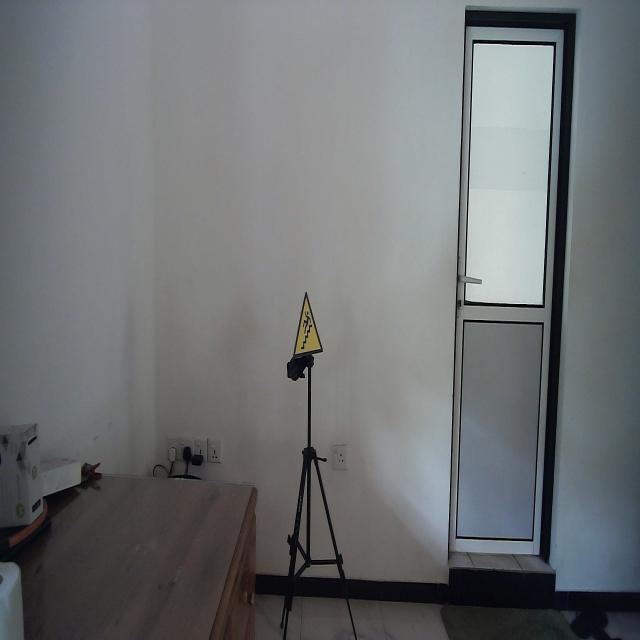stairs: (294, 290, 324, 358)
